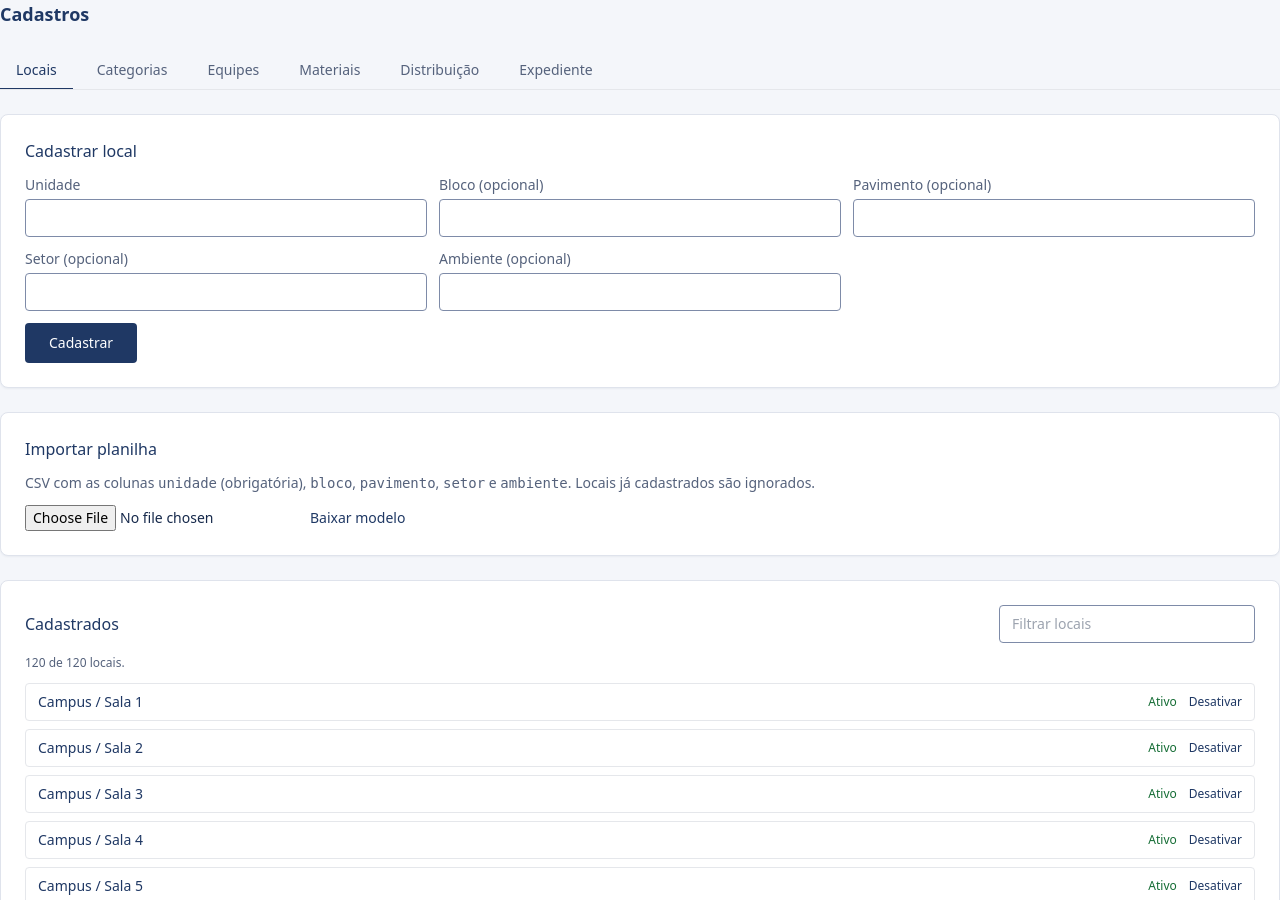
Test: Lista longa de locais › o filtro alcança o que ainda não foi desenhado e a contagem continua sendo da lista inteira
This screenshot has width=1280, height=900.
Type "Sala 119" into the search field with placeholder "Filtrar locais" at (1127, 624), box left=999, top=605, right=1255, bottom=643
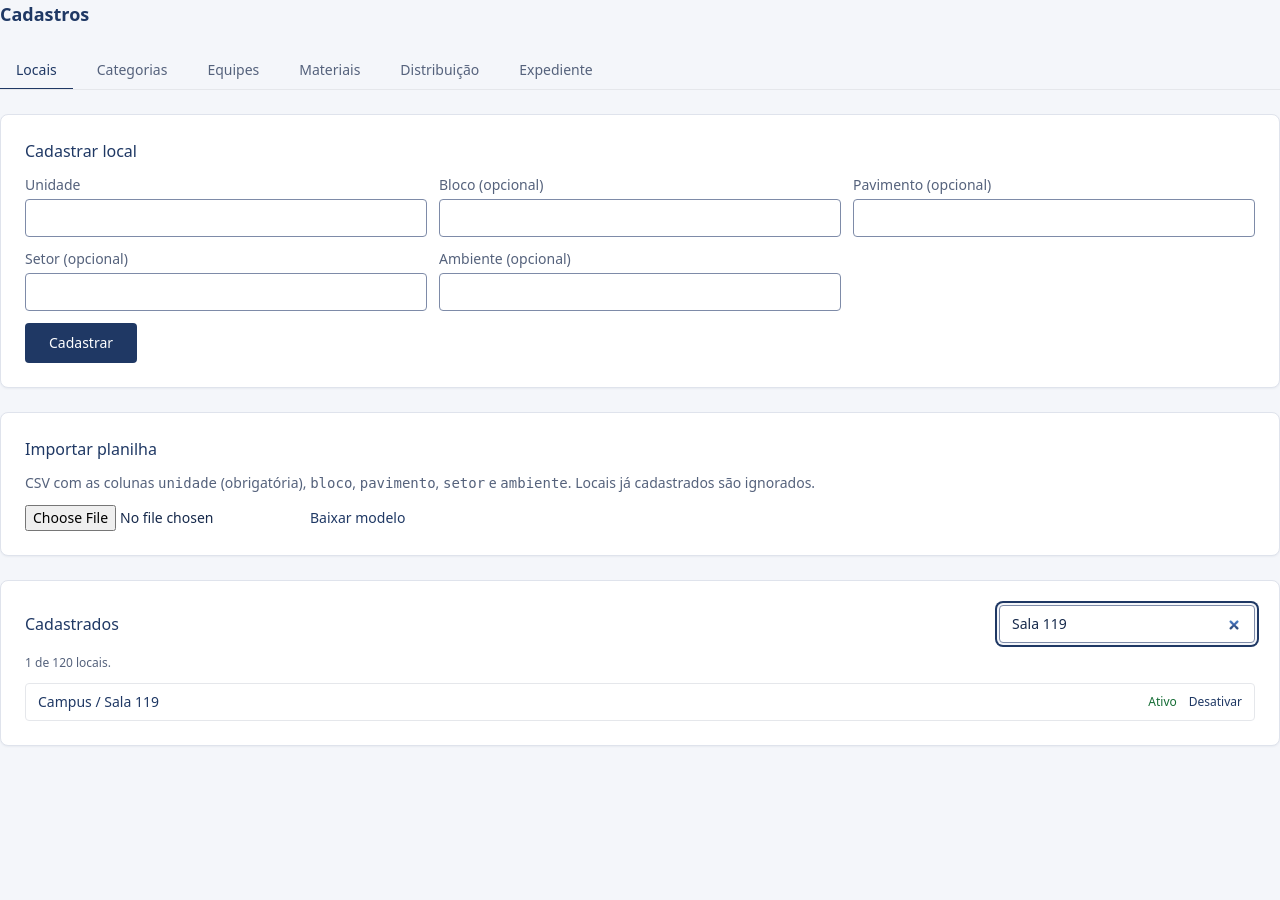
Expected: the text "Campus / Sala 119" is shown once, left=38, top=692, right=159, bottom=712
Expected: the text "1 de 120 locais." is shown, left=25, top=654, right=111, bottom=671
